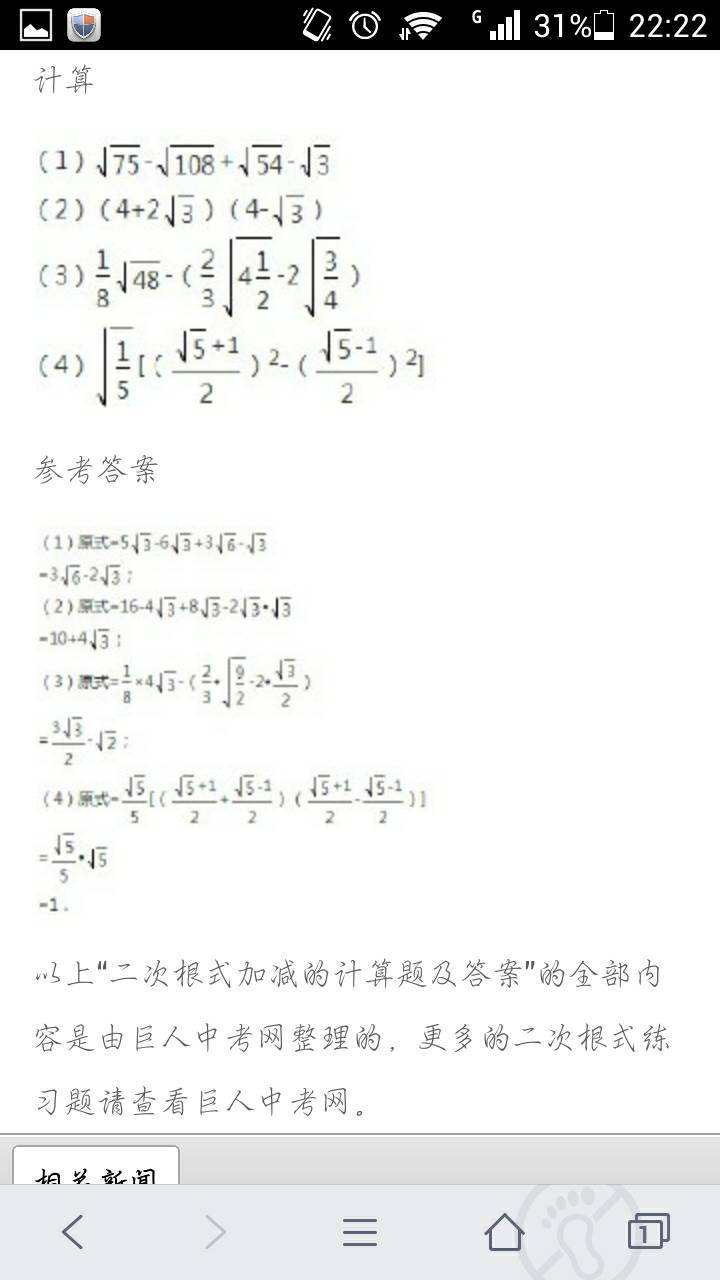division: (161, 362, 240, 385), (316, 362, 378, 381), (108, 361, 138, 378)
sqrt: (220, 230, 277, 325), (92, 318, 141, 420), (297, 230, 347, 326), (156, 138, 220, 185), (236, 134, 287, 185), (113, 252, 164, 302), (93, 136, 141, 185), (169, 320, 211, 369), (299, 141, 339, 184), (271, 190, 317, 226), (160, 188, 199, 230)
square: (400, 344, 419, 370), (266, 346, 282, 367)
